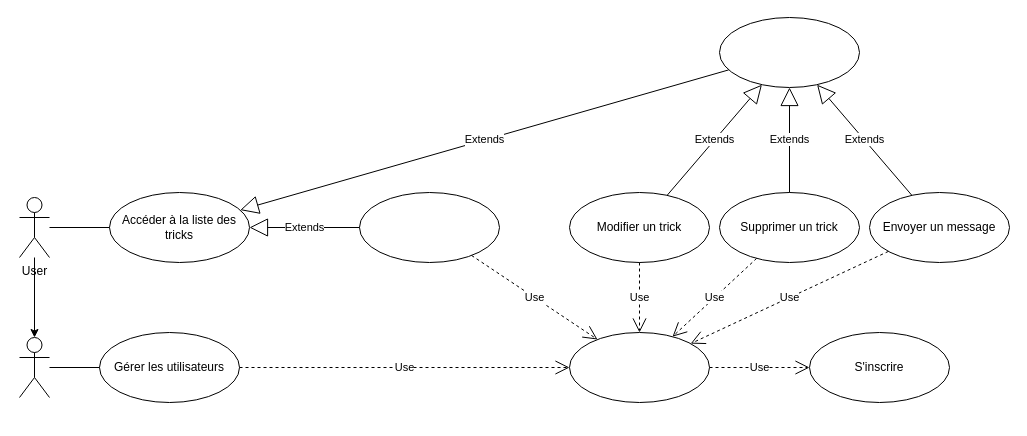
The diagram is 1027 pixels wide and 436 high, and some of its shapes have lost their labels. The shapes that lost their labels are listed below. From the top down, each one's centre as x and y in pixels, then its label:
pixel 789 52: Accéder à la vue d'un trick
pixel 429 227: Créer un trick
pixel 34 367: Admin
pixel 639 367: Se connecter
